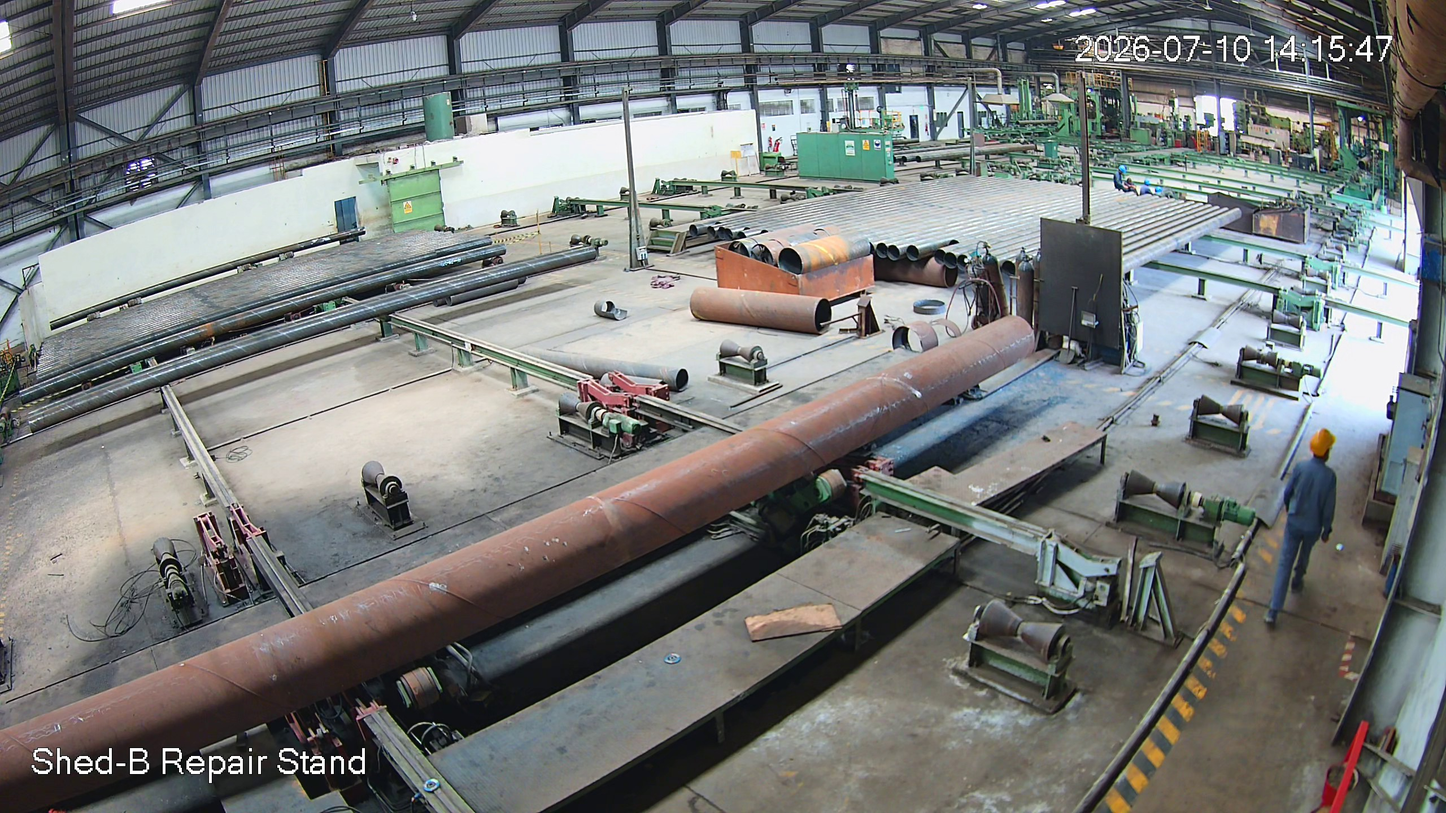Helmet: (1298, 428, 1341, 480)
Person: (1263, 429, 1353, 627)
